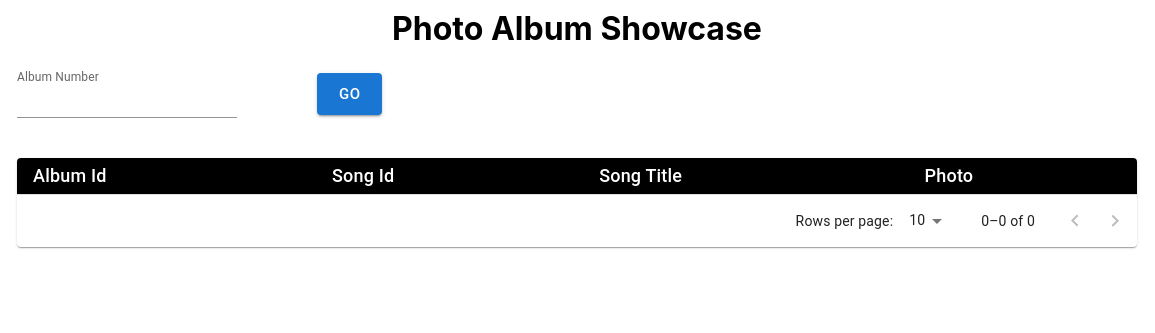
Test: photo album showcase › requests just the album info when button is pressed
Type "12" into the number field labelled "Album Number". click: {"x": 127, "y": 102}
box: [17,86,237,118]
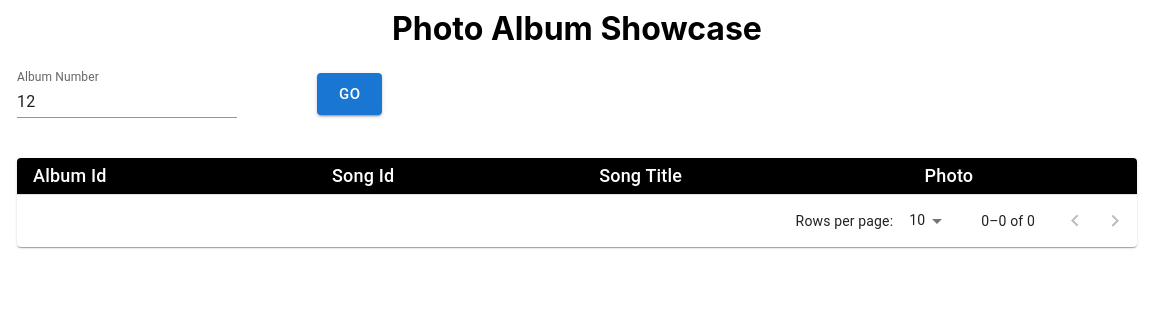
Click the button "Go". click: {"x": 350, "y": 94}
box: [317,73,382,115]
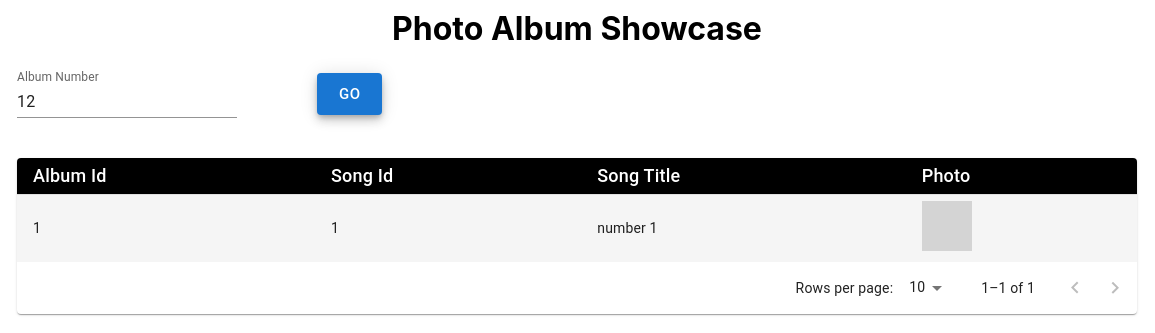
Expected: the text "number 1" is shown, [581,194,906,262]
